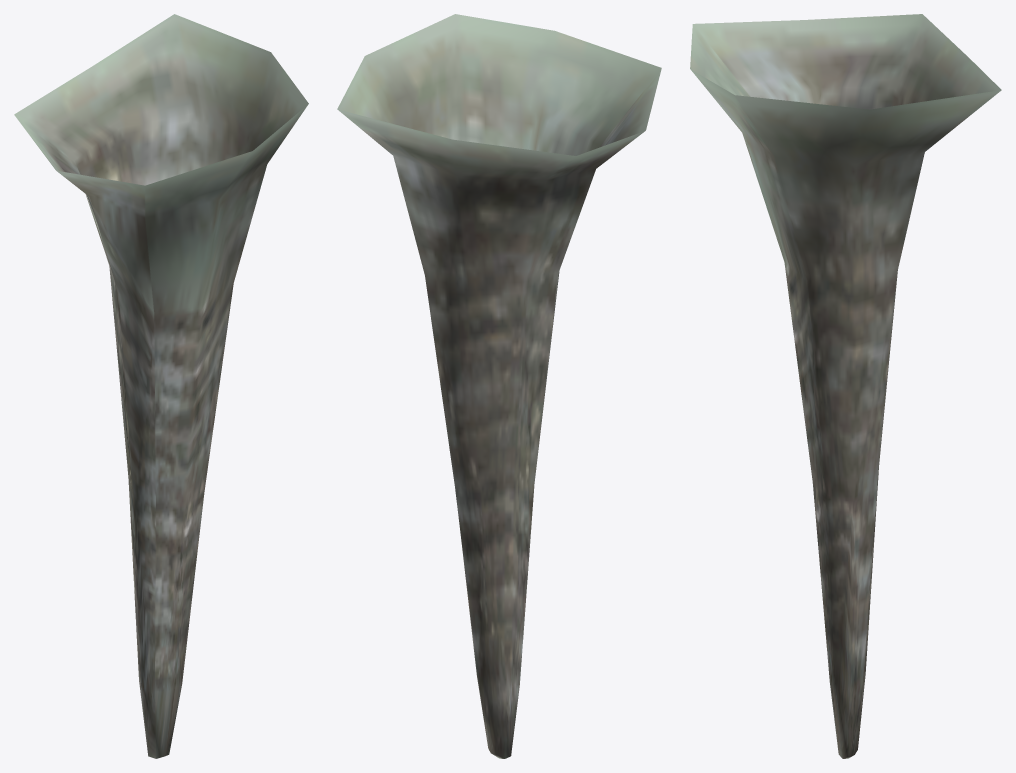
Rendered from TROLLHOLE02_PS-UPPERSTALAG10.fbx.
3 renders of one model, left to right at view 1: azimuth 30°, elevation 25°; view 2: azimuth 150°, elevation 25°; view 3: azimuth 270°, elevation 25°, orthographic. The views are drawn at different scales.
Visible parts, largest first — view 1: TROLLHOLE02_PS-UPPERSTALAG10; view 2: TROLLHOLE02_PS-UPPERSTALAG10; view 3: TROLLHOLE02_PS-UPPERSTALAG10.
Boxes of the visible parts, x1,y1,x2,y2 form: TROLLHOLE02_PS-UPPERSTALAG10: (14,14,308,758); TROLLHOLE02_PS-UPPERSTALAG10: (337,14,661,758); TROLLHOLE02_PS-UPPERSTALAG10: (690,14,1001,758).
Bounding box in the file's own units: 11696 × 30470 × 12057.
1 material, 1 textured.
